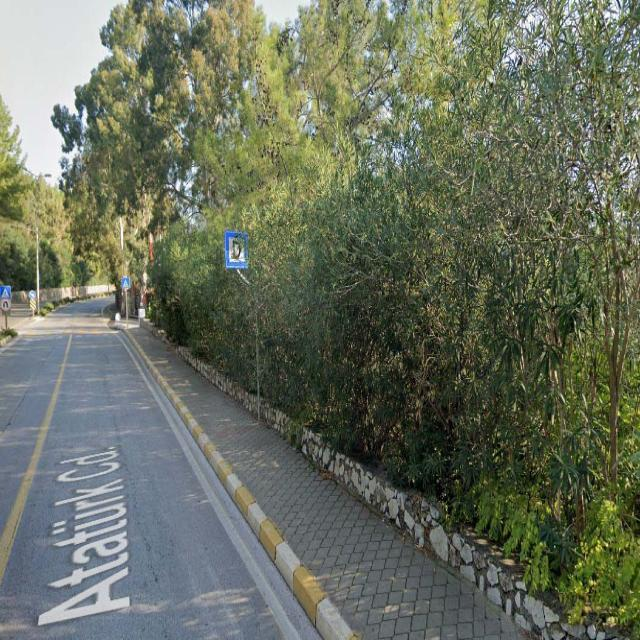durak: (225, 229, 249, 266)
